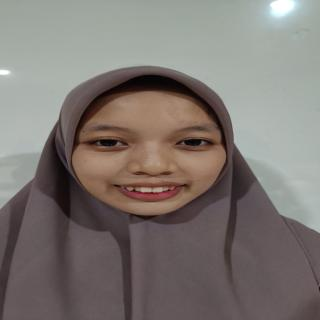Senang: (71, 83, 227, 221)
